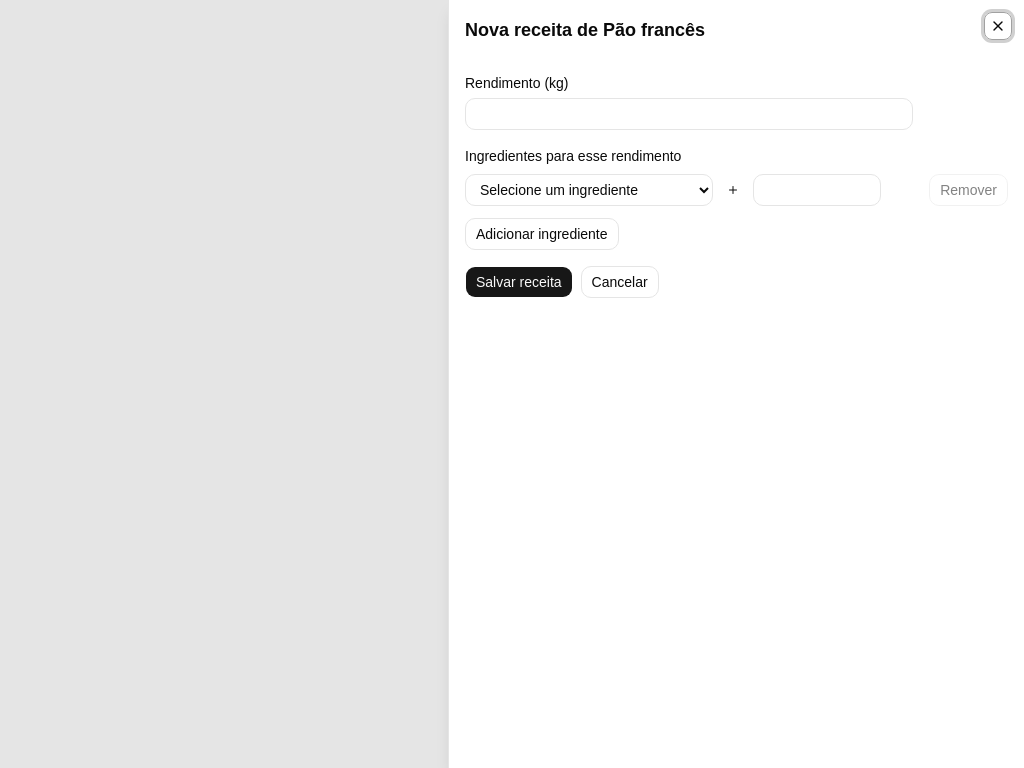
Test case: RecipeSheet, editing › shows the unit of the ingredient chosen beside its quantity
The image size is (1024, 768).
Check: the button "Salvar receita" is shown, box [465,266,573,298]
Select "Sal (g)" in the dropdown named "Ingrediente 1" at (589, 190), box [465,174,713,206]
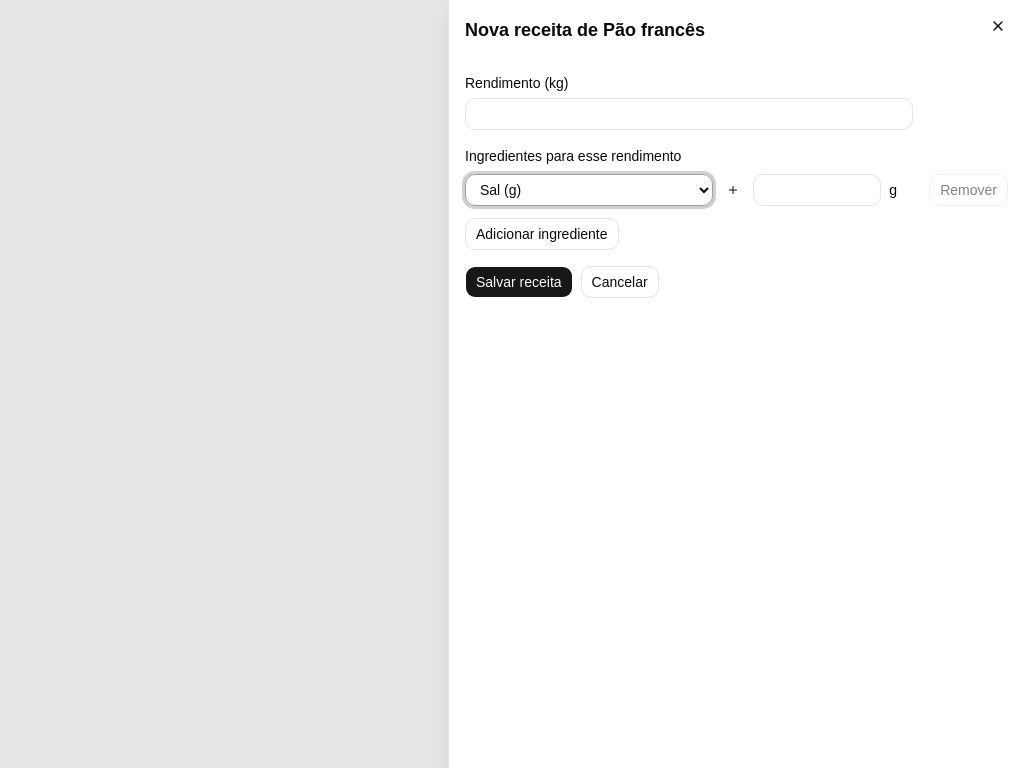
Check: the text with test id "ingredient-unit-1" reads "g", box [889,182,897,198]
